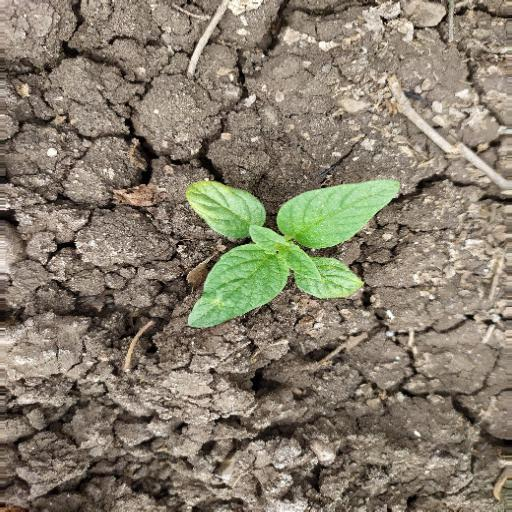crop: (161, 170, 417, 341)
